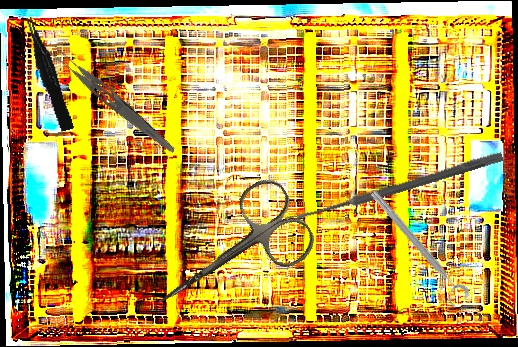Dressing Forceps: (46, 42, 181, 157)
Fixation Ring: (361, 186, 472, 310)
Iris Scissors: (132, 171, 323, 340)
Surgical Spoon: (284, 150, 504, 227)
Tissue Forceps: (23, 13, 75, 134)
